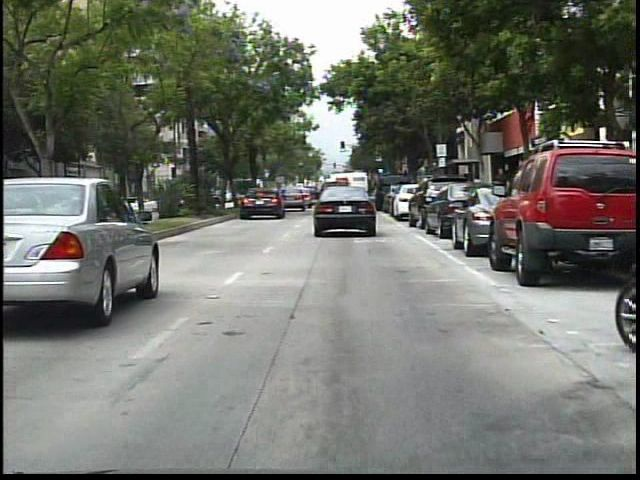person: (488, 159, 512, 221)
